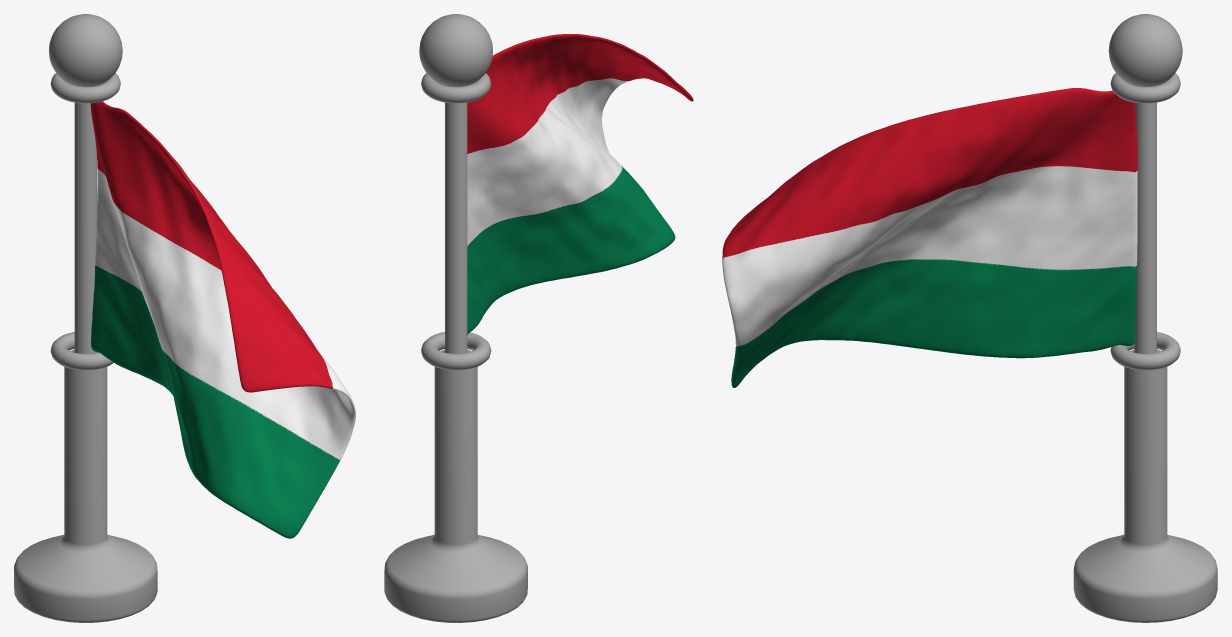
3 renders of one model, left to right at view 1: azimuth 30°, elevation 25°; view 2: azimuth 150°, elevation 25°; view 3: azimuth 270°, elevation 25°, orthographic.
Visible parts, largest first — view 1: Flag ShapeKeys_2_4, Circle, Sphere, Torus.002, Torus.001; view 2: Flag ShapeKeys_2_4, Circle, Sphere, Torus.001, Torus.002; view 3: Flag ShapeKeys_2_4, Circle, Sphere, Torus.001, Torus.002.
Boxes of the visible parts, x1,y1,x2,y2 form: Flag ShapeKeys_2_4: (90,101,355,538); Circle: (14,102,157,622); Sphere: (49,14,122,86); Torus.002: (50,73,120,103); Torus.001: (50,332,113,370); Flag ShapeKeys_2_4: (467,34,693,334); Circle: (384,102,527,622); Sphere: (419,14,492,86); Torus.001: (421,332,491,370); Torus.002: (421,73,491,103); Flag ShapeKeys_2_4: (722,88,1137,387); Circle: (1073,102,1217,622); Sphere: (1108,14,1182,86); Torus.001: (1110,332,1180,370); Torus.002: (1110,73,1180,103).
Size of the model in its own units: 0.9476 by 4.15 by 3.23.
3 materials, 1 textured.
